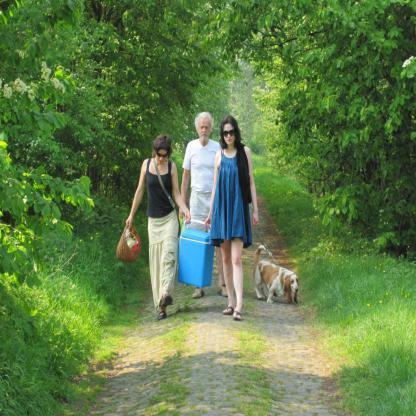face: (199, 119, 211, 143), (223, 124, 236, 146), (157, 147, 169, 165)
